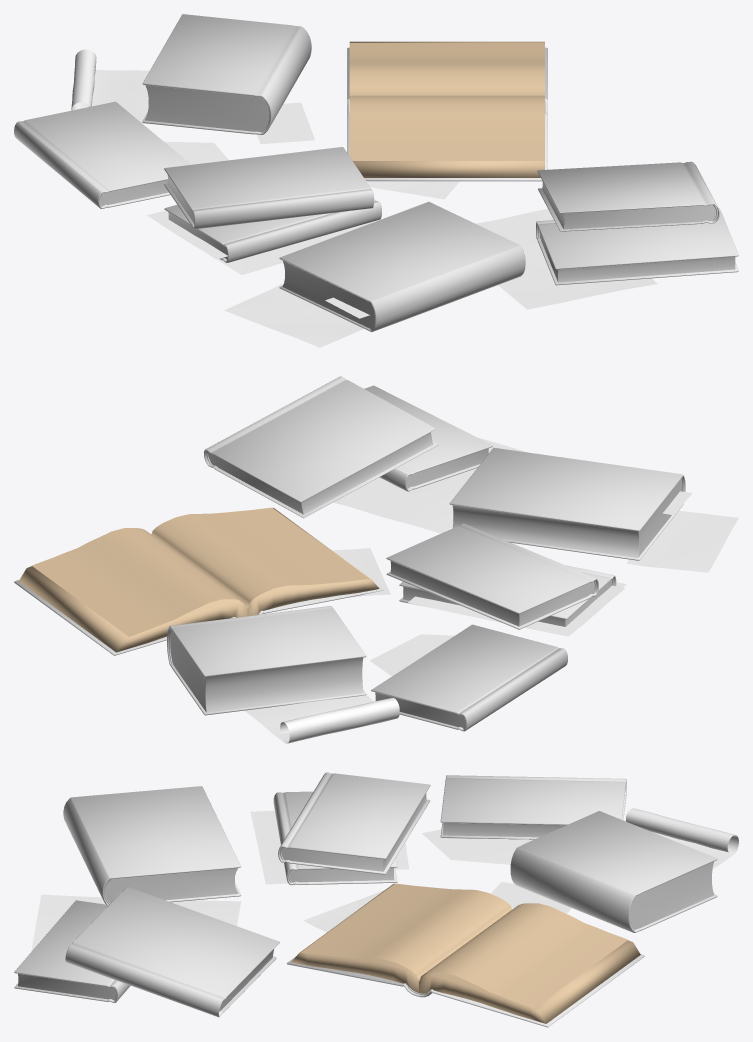
The model's file is books.glb.
The picture shows the model from 3 angles, top to bottom: view 1: azimuth 30°, elevation 25°; view 2: azimuth 150°, elevation 25°; view 3: azimuth 270°, elevation 25°; orthographic projection. The views are drawn at different scales.
Parts seen in each view (by area): view 1: Defence-Against-Dark-Arts-Open, Defence-Against-Dark-Arts, Magical-Potions, Xylomancy, Denizens-of-the-Deep-2, Abra-Cadabra, Xylomancy.001, Denizens-of-the-Deep, Illustration-01, Illustration-02, Paper-Curled, Tarot-Card-02 (+4 smaller); view 2: Defence-Against-Dark-Arts-Open, Defence-Against-Dark-Arts, Abra-Cadabra, Magical-Potions, Xylomancy, Denizens-of-the-Deep-2, Illustration-01, Paper-Curled, Xylomancy.001, Illustration-02, Illustration-01-02, Denizens-of-the-Deep (+2 smaller); view 3: Defence-Against-Dark-Arts-Open, Magical-Potions, Defence-Against-Dark-Arts, Abra-Cadabra, Xylomancy, Denizens-of-the-Deep-2, Xylomancy.001, Denizens-of-the-Deep, Paper-Curled, Illustration-01, Envelope, Paper (+2 smaller).
Part boxes in pixels (box(x1,y1,x2,y2)): Defence-Against-Dark-Arts-Open: box(347, 41, 547, 181); Defence-Against-Dark-Arts: box(279, 201, 525, 332); Magical-Potions: box(142, 14, 311, 134); Xylomancy: box(164, 147, 373, 229); Denizens-of-the-Deep-2: box(14, 101, 191, 209); Abra-Cadabra: box(537, 161, 719, 231); Xylomancy.001: box(536, 208, 738, 285); Denizens-of-the-Deep: box(164, 199, 381, 262); Illustration-01: box(476, 209, 657, 309); Illustration-02: box(224, 284, 363, 347); Paper-Curled: box(71, 49, 149, 122); Tarot-Card-02: box(257, 102, 314, 143); Defence-Against-Dark-Arts-Open: box(14, 507, 383, 655); Defence-Against-Dark-Arts: box(449, 447, 685, 560); Abra-Cadabra: box(204, 376, 438, 518); Magical-Potions: box(167, 606, 366, 715); Xylomancy: box(386, 523, 598, 629); Denizens-of-the-Deep-2: box(371, 624, 567, 731); Illustration-01: box(333, 437, 527, 533); Paper-Curled: box(244, 695, 399, 743); Xylomancy.001: box(364, 385, 492, 491); Illustration-02: box(626, 510, 738, 572); Illustration-01-02: box(408, 585, 625, 636); Denizens-of-the-Deep: box(399, 565, 616, 626); Defence-Against-Dark-Arts-Open: box(287, 883, 644, 1027); Magical-Potions: box(510, 811, 717, 932); Defence-Against-Dark-Arts: box(63, 786, 241, 904); Abra-Cadabra: box(65, 886, 279, 1017); Xylomancy: box(278, 772, 430, 874); Denizens-of-the-Deep-2: box(440, 775, 626, 839); Xylomancy.001: box(14, 900, 130, 1002); Denizens-of-the-Deep: box(273, 791, 397, 885); Paper-Curled: box(626, 808, 738, 868); Illustration-01: box(31, 894, 241, 951); Envelope: box(422, 829, 533, 864); Paper: box(250, 810, 288, 884).
Size of the model in its own units: 7.58 by 0.6844 by 9.64.
